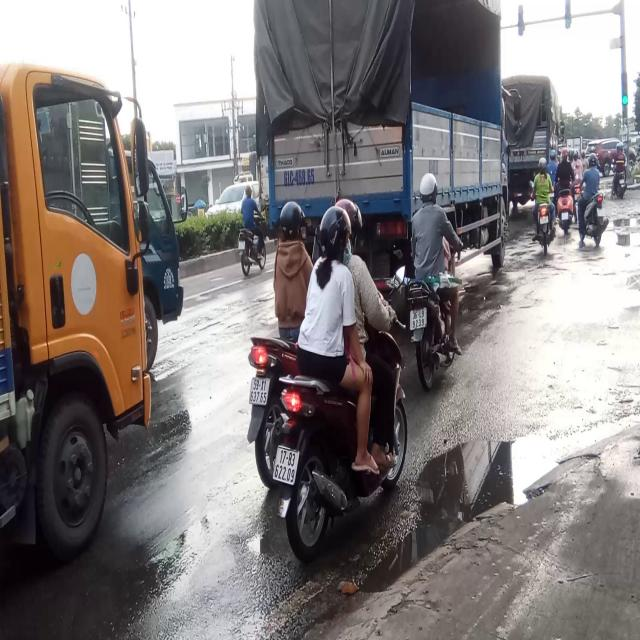bien_trang: (267, 442, 301, 484), (407, 304, 431, 334), (247, 376, 271, 406)
